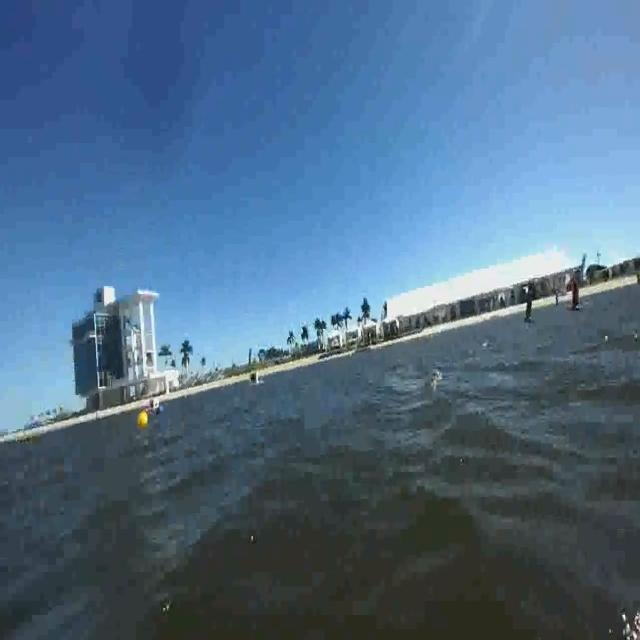yellow-buoy: (138, 411, 150, 432)
